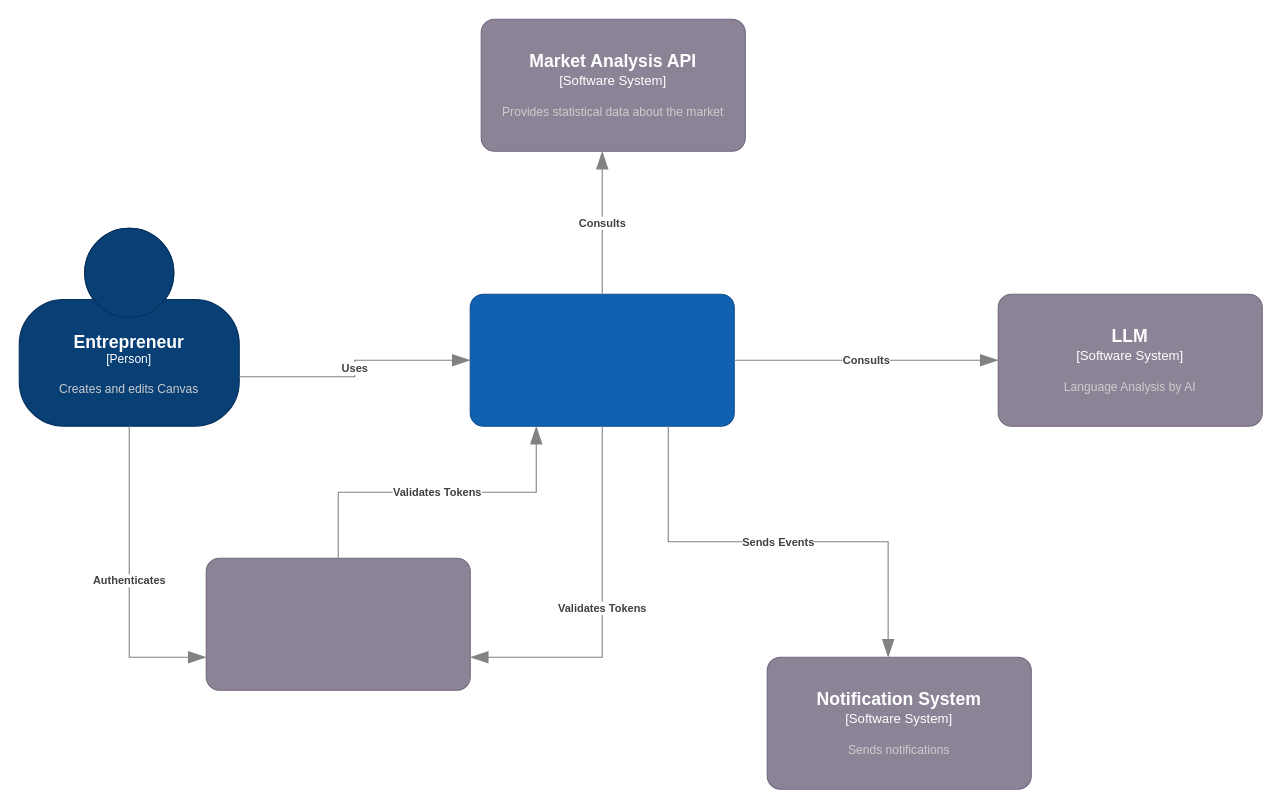
This 1282x809 diagram has some shape labels left out. The centre of each missing label's shape, as x and y in pixels:
"Identity Provider [Software System] Manages Tokens" belongs at point (337, 623).
"Smart Decisions [Software System] Canvas Management" belongs at point (601, 359).
